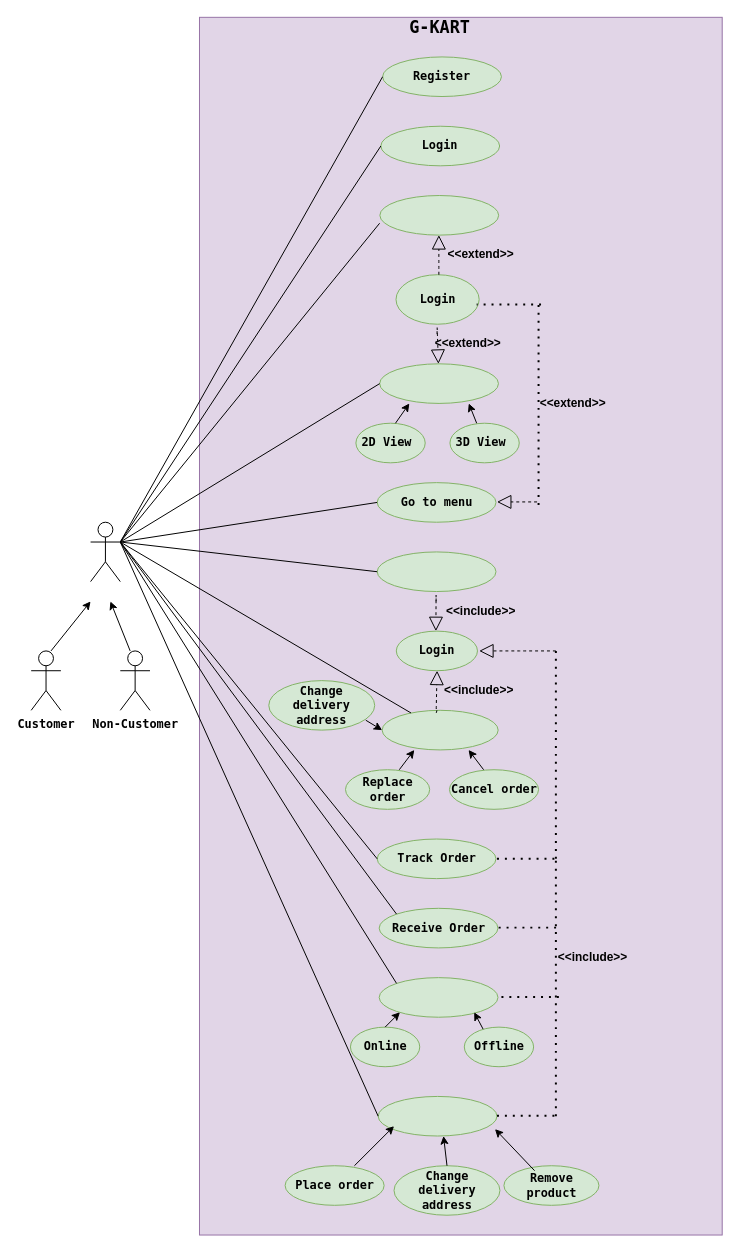
The diagram is 740 pixels wide and 1252 high, and some of its shapes have lost their labels. The centre of each missing label's shape, as x and y in pixels:
Add item to cart: the point at 437,1115
Feedback: the point at 436,571
Order: the point at 439,729
Payment: the point at 438,997
search item: the point at 439,215
User: the point at 105,551
View item: the point at 438,383
